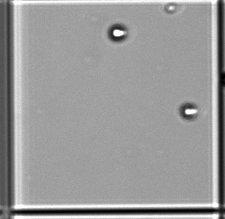Living Cell: (109, 23, 127, 42), (180, 103, 198, 120)
